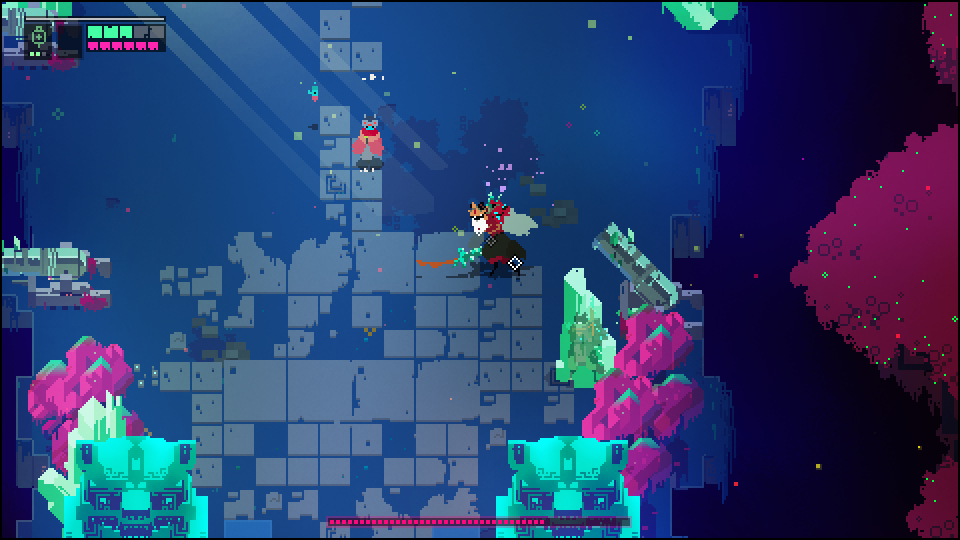hanged_man: (445, 189, 542, 279)
player: (346, 112, 384, 175)
